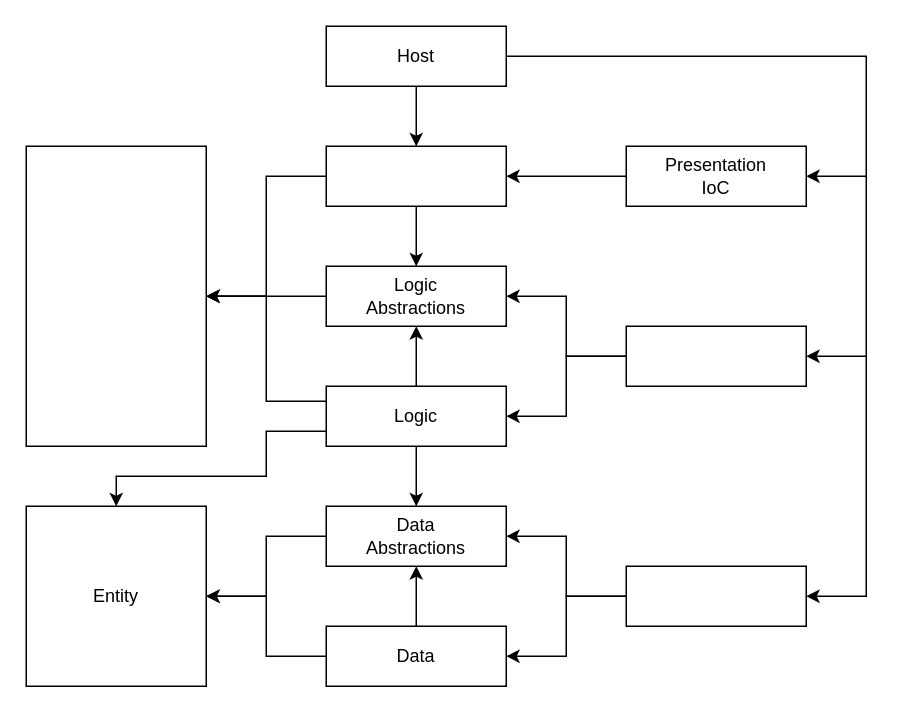
Some shapes in this 905 by 713 pixel diagram are drawn without their labels. Each missing label, with the centre of its shape:
Data IoC: point 715,595
Domain: point 115,295
Logic IoC: point 715,355
Presentation: point 415,175
